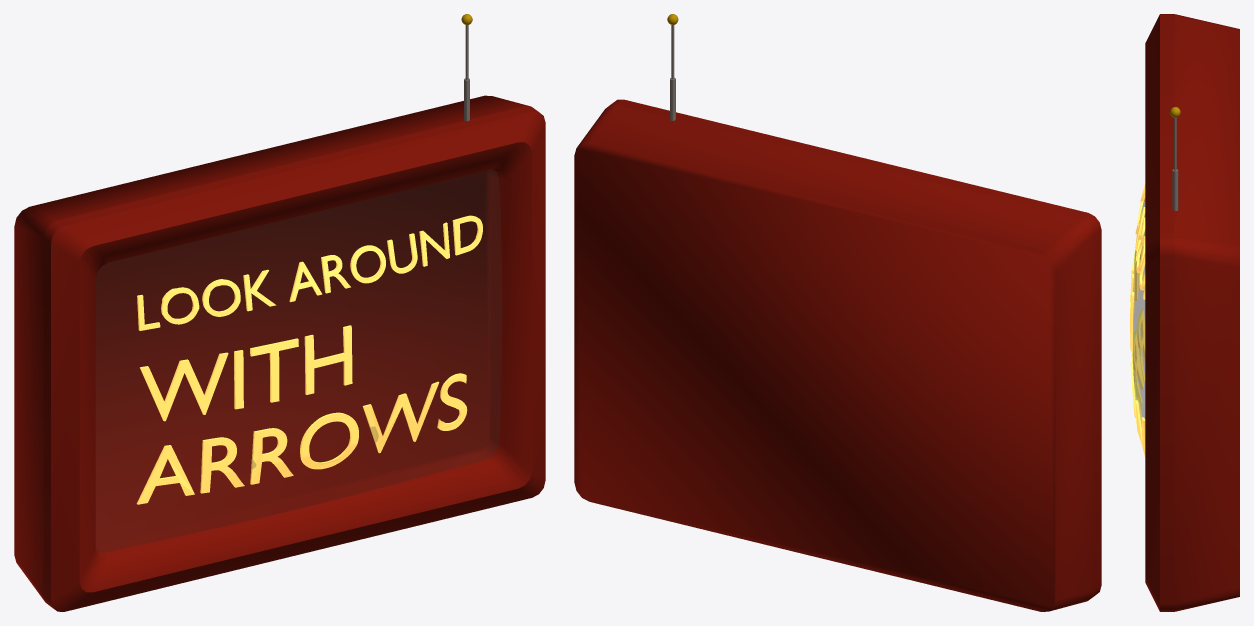
3 views of the same model, side by side, from view 1: azimuth 30°, elevation 25°; view 2: azimuth 150°, elevation 25°; view 3: azimuth 270°, elevation 25° (orthographic). The views are drawn at different scales.
Parts seen in each view (by area): view 1: Plane.008; view 2: Plane.008; view 3: Plane.008.
Part boxes in pixels (x1,y1,x2,y2): Plane.008: (14, 14, 545, 611); Plane.008: (574, 14, 1101, 611); Plane.008: (1130, 14, 1239, 611).
Size of the model in its own units: 2.32 by 2.2 by 0.4607.
